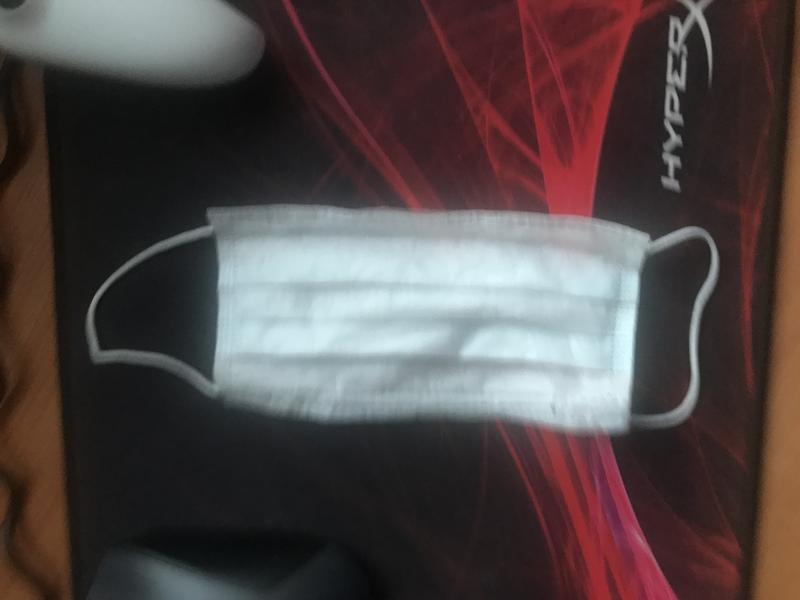medical_mask: (85, 205, 712, 431)
